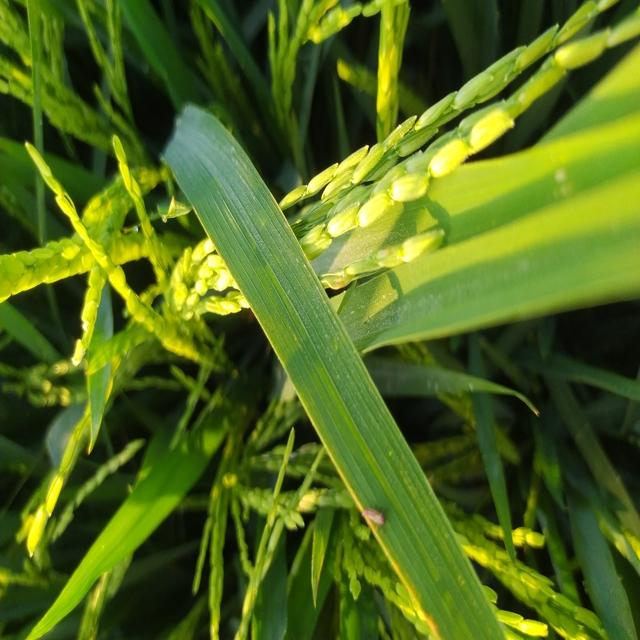healthy: (352, 496, 401, 540)
